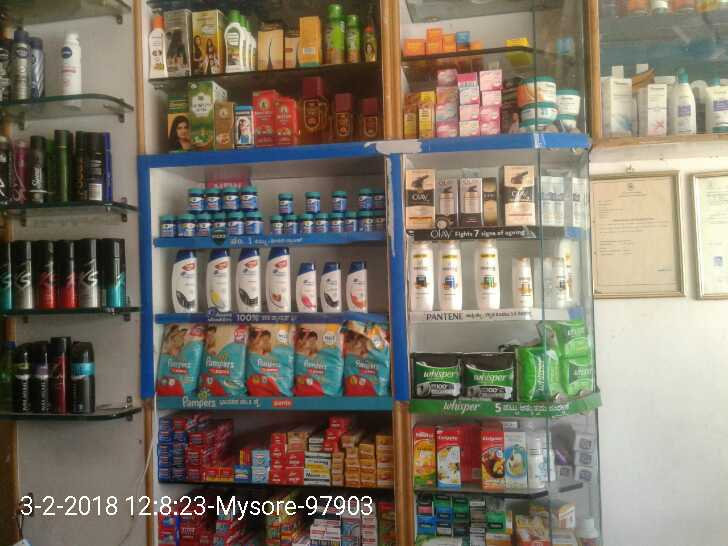beauty: (405, 169, 441, 228), (501, 166, 534, 225), (169, 246, 198, 313), (267, 242, 294, 313), (474, 241, 502, 308), (409, 241, 434, 314), (452, 173, 483, 230), (441, 238, 463, 314), (235, 247, 261, 310), (206, 246, 230, 314), (510, 252, 534, 312), (345, 258, 367, 316), (321, 258, 341, 313), (438, 182, 457, 234), (298, 257, 314, 313)
pharmacy: (242, 323, 295, 397), (296, 321, 345, 398), (154, 322, 203, 396), (202, 321, 248, 399), (341, 326, 389, 399), (407, 352, 463, 399), (466, 349, 515, 398), (521, 344, 562, 398), (547, 317, 589, 355), (559, 359, 594, 397), (181, 185, 203, 213), (235, 184, 257, 210), (272, 190, 295, 214), (177, 213, 198, 236), (195, 212, 213, 238), (354, 184, 374, 206), (155, 214, 174, 237), (219, 186, 235, 211), (302, 189, 320, 211), (202, 186, 218, 210), (245, 214, 262, 236), (334, 188, 351, 208), (299, 213, 315, 234), (346, 210, 361, 232), (211, 213, 225, 236), (329, 214, 345, 234), (313, 212, 327, 234), (226, 213, 241, 233), (284, 217, 299, 235), (360, 216, 379, 230), (270, 215, 282, 231)
